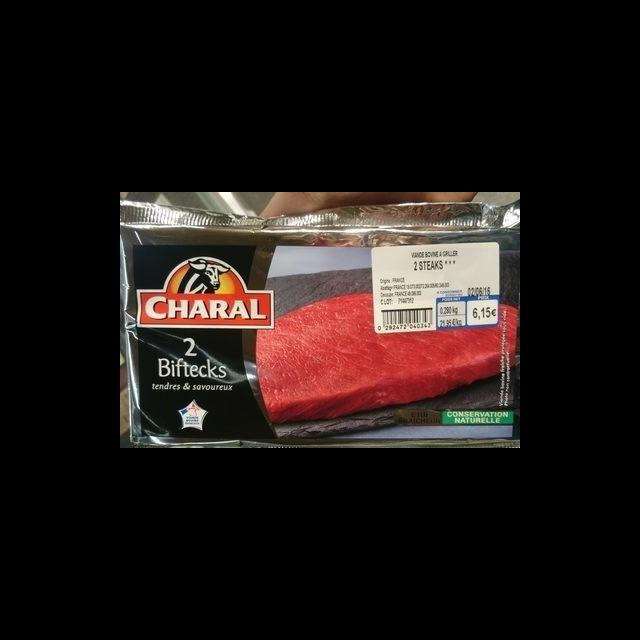beef: (259, 293, 517, 421)
